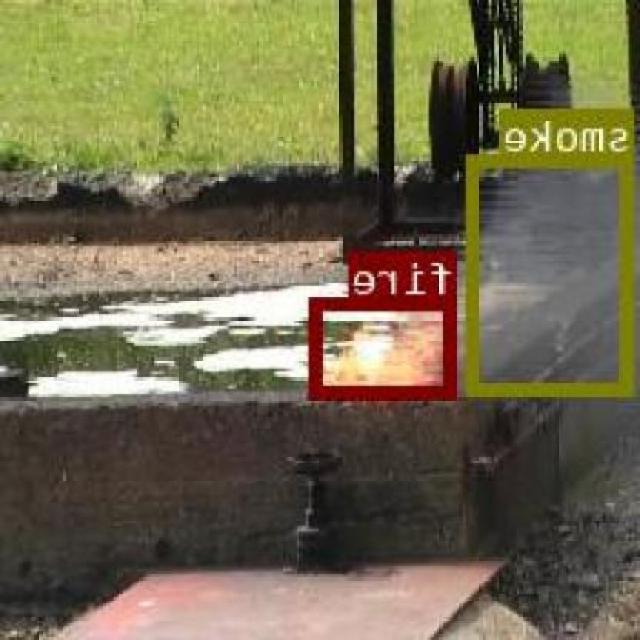Fire: (313, 296, 458, 395)
Smoke: (468, 154, 634, 392)
